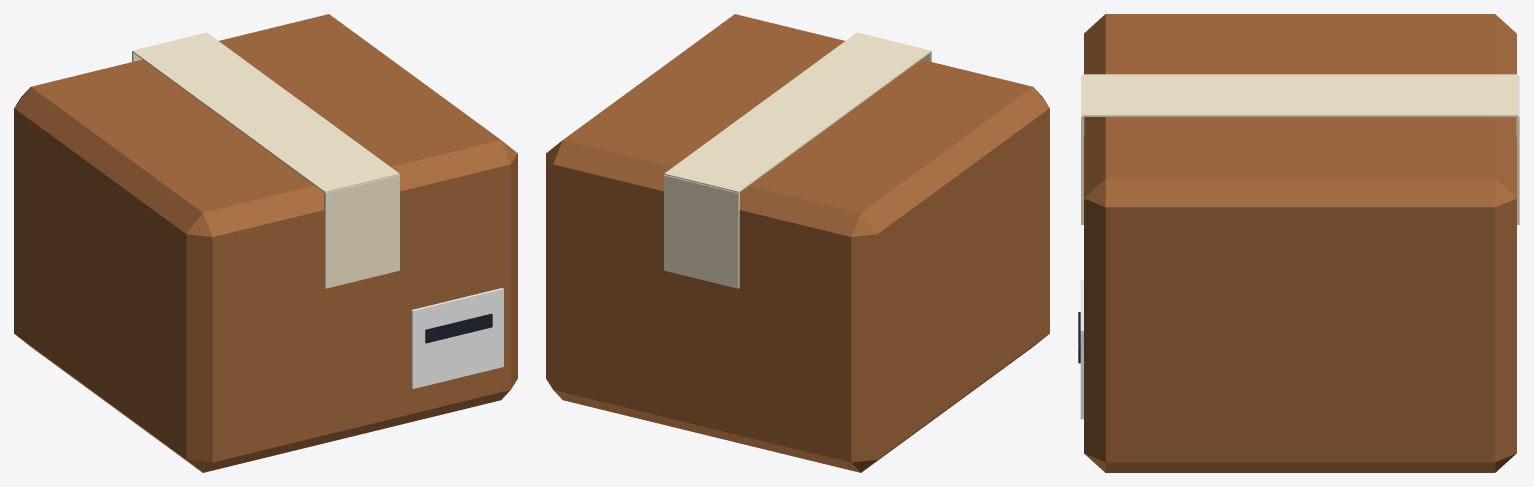
File: crate.glb
The picture shows the model from 3 angles, left to right: view 1: azimuth 30°, elevation 25°; view 2: azimuth 150°, elevation 25°; view 3: azimuth 270°, elevation 25°; orthographic projection. The views are drawn at different scales.
Parts seen in each view (by area): view 1: crate; view 2: crate; view 3: crate.
Boxes of the visible parts, x1,y1,x2,y2 form: crate: [14, 14, 517, 472]; crate: [546, 14, 1049, 472]; crate: [1078, 14, 1519, 472].
Size of the model in its own units: 0.8 by 0.603 by 0.815.
